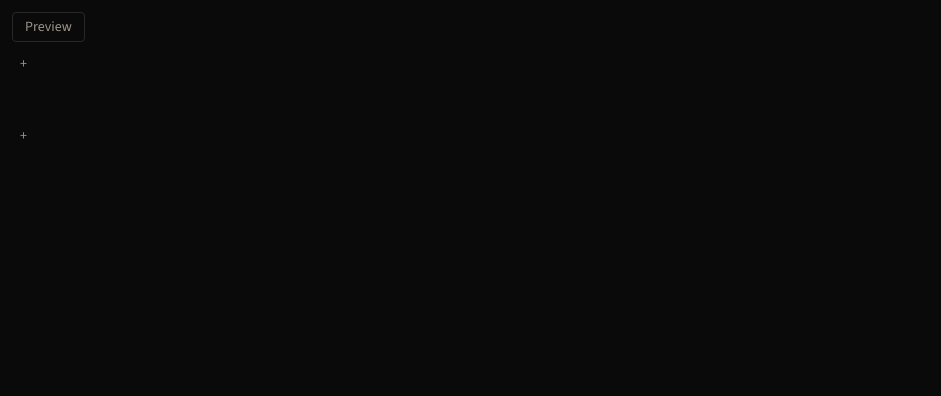
Test: BlockEditor › inserting a code block seeds empty code/language content
Click the button named "Insert block" at (24, 64), box [12,50,35,78]
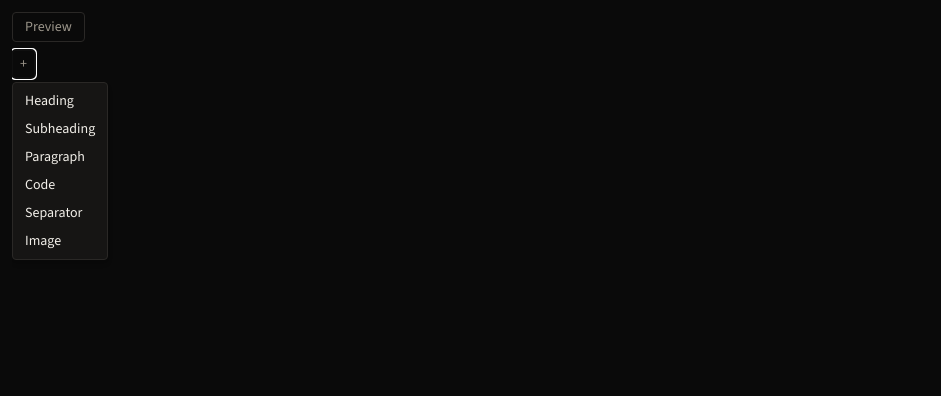
Click the button "Code" at (60, 185), box [13,171,107,199]
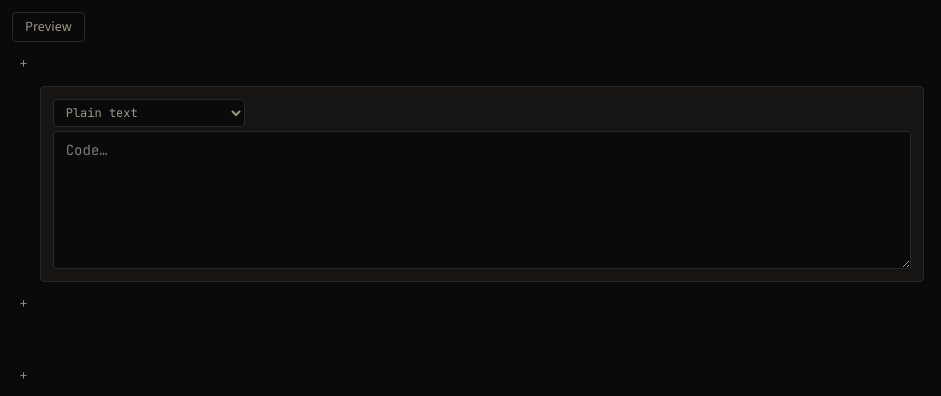
Expected: the text box labelled "Code" is shown, [53,131,911,269]
Expected: the dropdown named "Code language" is shown, [53,99,245,127]
